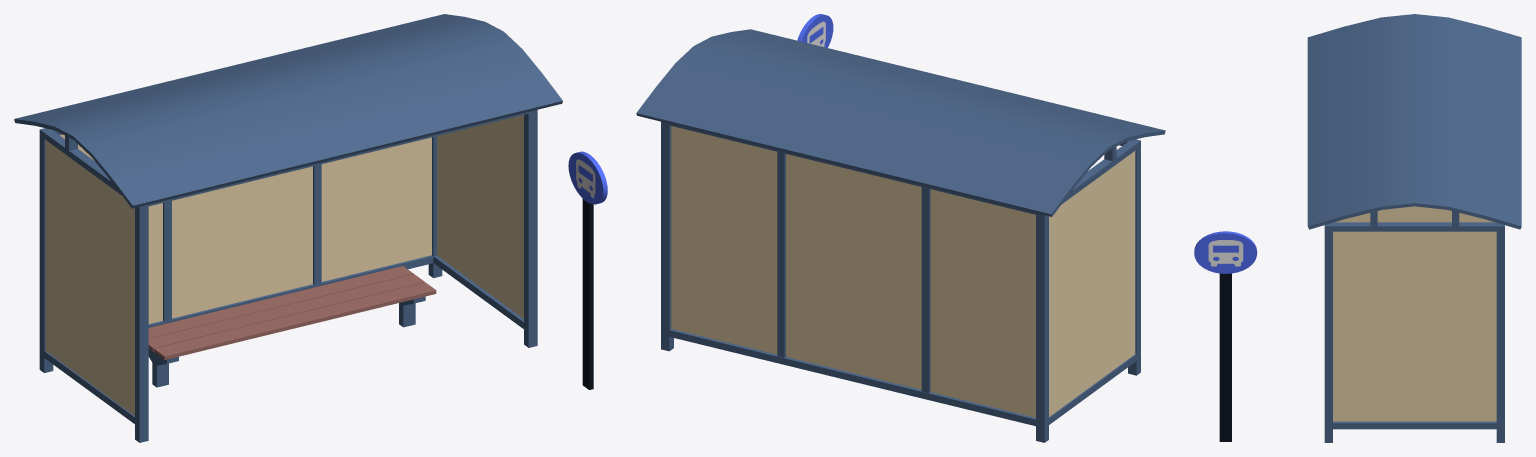
The model's file is bus-stop.fbx.
The picture shows the model from 3 angles, left to right: view 1: azimuth 30°, elevation 25°; view 2: azimuth 150°, elevation 25°; view 3: azimuth 270°, elevation 25°; orthographic projection. The views are drawn at different scales.
Visible parts, largest first — view 1: 5. bus-stop, bus-stop-sign; view 2: 5. bus-stop, bus-stop-sign; view 3: 5. bus-stop, bus-stop-sign.
Boxes of the visible parts, <box> form: 5. bus-stop: <box>14,14,562,442</box>; bus-stop-sign: <box>568,151,607,389</box>; 5. bus-stop: <box>636,29,1165,442</box>; bus-stop-sign: <box>797,14,833,47</box>; 5. bus-stop: <box>1307,14,1521,442</box>; bus-stop-sign: <box>1194,231,1257,441</box>.
Bounding box in the file's own units: 5.75 × 3.5 × 4.21.
